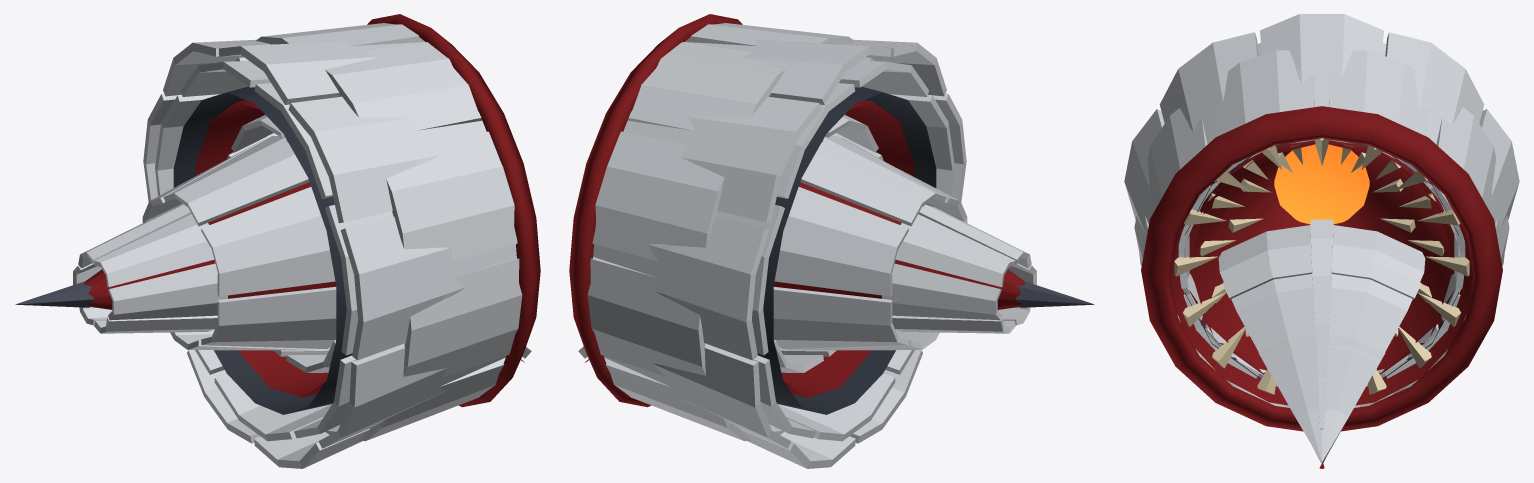
The model's file is worm.glb.
The picture shows the model from 3 angles, left to right: view 1: azimuth 30°, elevation 25°; view 2: azimuth 150°, elevation 25°; view 3: azimuth 270°, elevation 25°; orthographic projection. The views are drawn at different scales.
Parts seen in each view (by area): view 1: Head, Tail, Segment; view 2: Head, Tail, Segment; view 3: Head, Petal, Tail, Segment.
Boxes of the visible parts, left/top/right/bottom form: Head: left=143, top=14, right=540, bottom=468; Tail: left=15, top=114, right=336, bottom=372; Segment: left=155, top=61, right=393, bottom=441; Head: left=569, top=14, right=966, bottom=468; Tail: left=773, top=114, right=1094, bottom=372; Segment: left=716, top=61, right=954, bottom=441; Head: left=1124, top=14, right=1519, bottom=431; Petal: left=1218, top=219, right=1425, bottom=468; Tail: left=1180, top=140, right=1463, bottom=377; Segment: left=1178, top=42, right=1465, bottom=386.
Size of the model in its own units: 3.55 by 2.57 by 2.61.
Materials: 2 (1 with a texture image).
